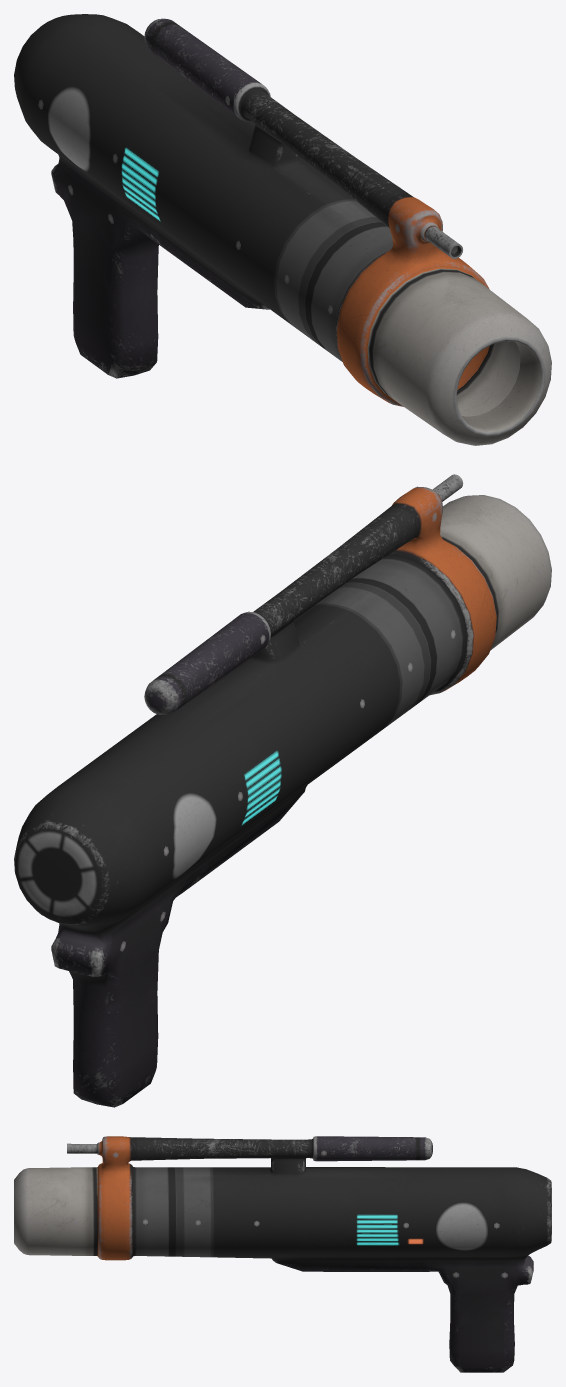
3 views of the same model, one above another, from view 1: azimuth 30°, elevation 25°; view 2: azimuth 150°, elevation 25°; view 3: azimuth 270°, elevation 25° (orthographic). The views are drawn at different scales.
Visible parts, largest first — view 1: SM_Graviton_Grappler; view 2: SM_Graviton_Grappler; view 3: SM_Graviton_Grappler.
Part boxes in pixels (bbox=[...]): SM_Graviton_Grappler: bbox=[14, 14, 551, 445]; SM_Graviton_Grappler: bbox=[14, 474, 551, 1107]; SM_Graviton_Grappler: bbox=[14, 1136, 551, 1372].
Size of the model in its own units: 0.9955 by 2.59 by 5.48.
Materials: 1 (1 with a texture image).
